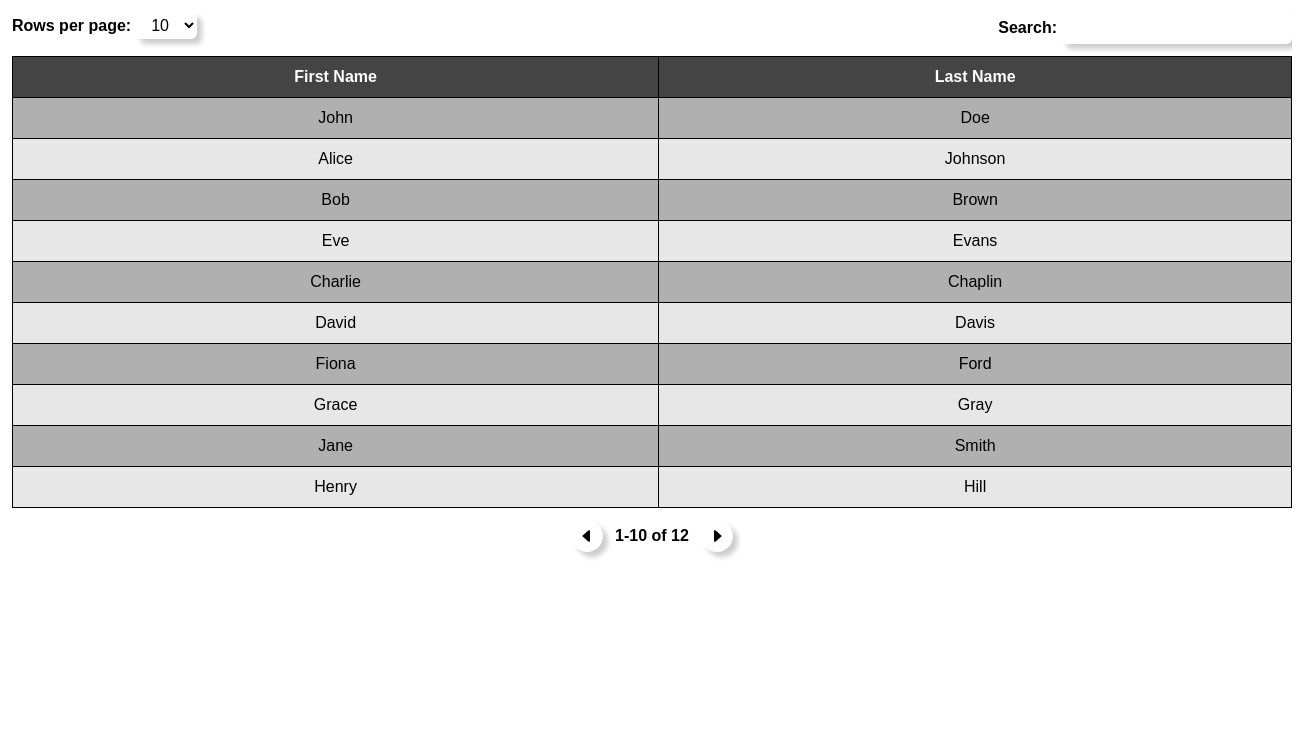
Test: <DataTable/> › clicks on "Previous" and "Next" buttons for pagination
Select "10" in the dropdown with test id "entries" at coordinates (166, 26), box x1=135 y1=12 x2=197 y2=39
Click the button with test id "data-table-navigation-next".
click(717, 536)  # box x1=701 y1=520 x2=733 y2=552
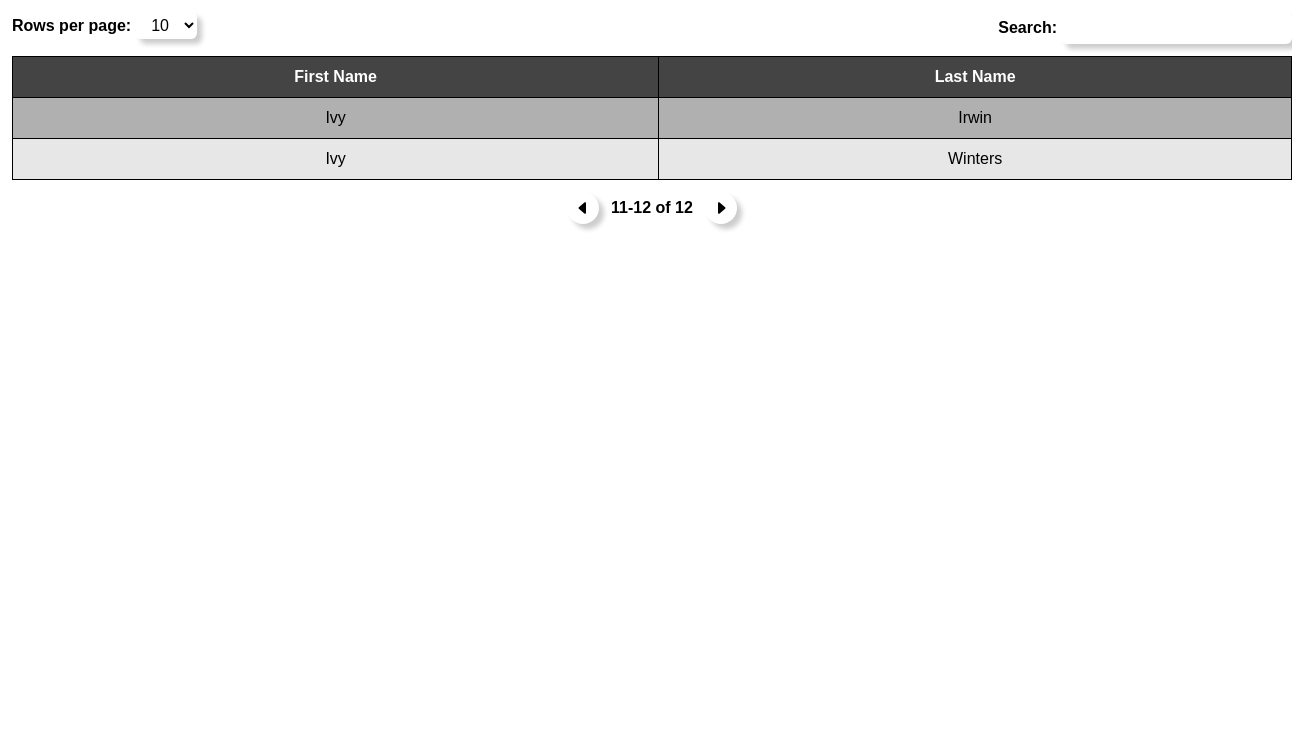
Expected: the cell "Ivy" in the row of "Irwin" is shown, x1=325 y1=109 x2=346 y2=126
Click the button with test id "data-table-navigation-previous".
click(583, 208)  # box x1=567 y1=192 x2=599 y2=224
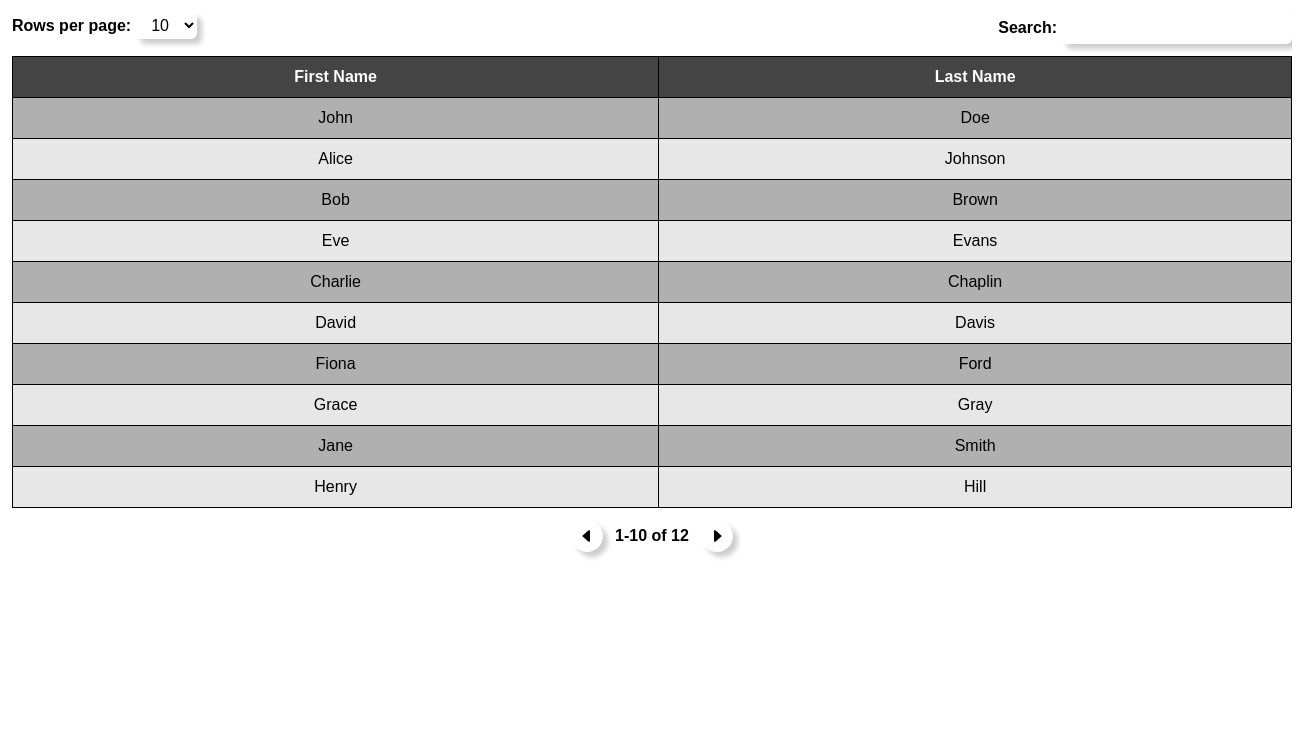
Expected: the cell "John" is shown, x1=12 y1=98 x2=659 y2=138
